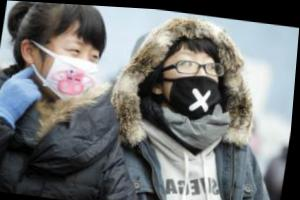OK: (35, 32, 106, 101)
WRONG: (153, 41, 227, 115)
